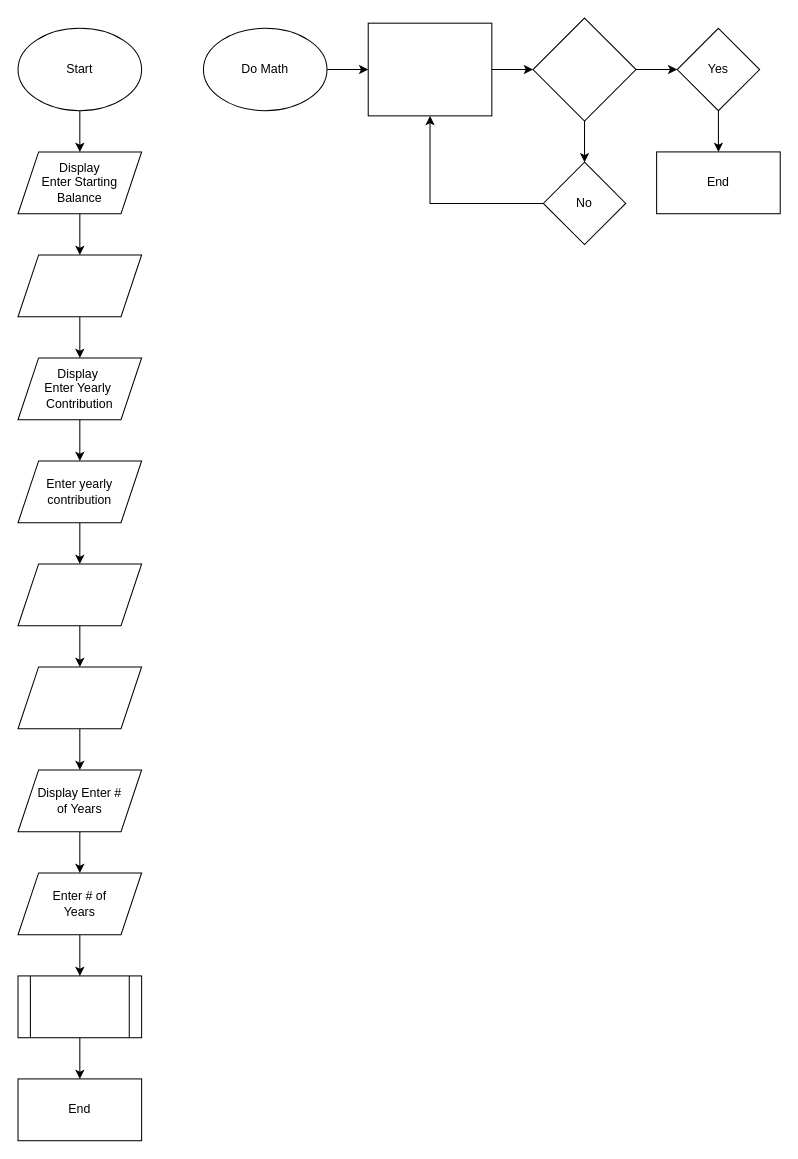
Image size: 798x1159. Some labels were removed from this diagram. Here are the shapes that lost their labels. From the top down, the centre of each, then its label:
At point 429,69: "(Bal+YC)x(1+.05) Print Bal".
At point 584,69: "Have we done this yrs times?".
At point 79,285: "Enter starting balance".
At point 79,594: "Display Enter ROI as %".
At point 79,697: "Enter ROI as %".
At point 79,1006: "Do Math, Print Bal".
